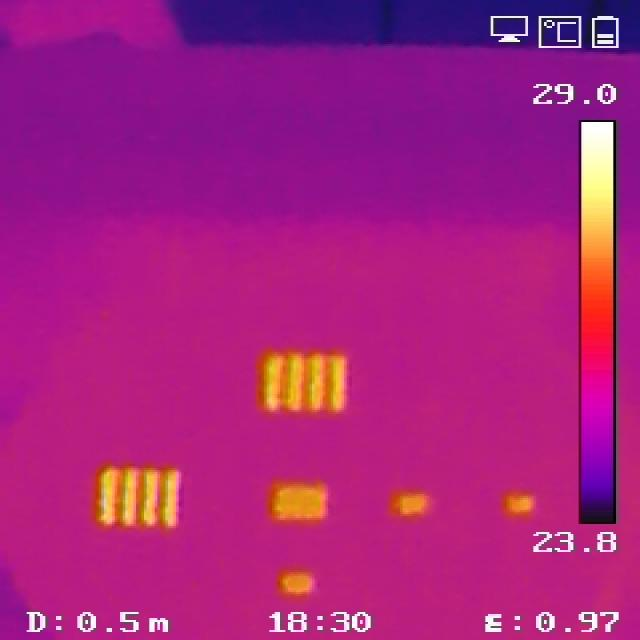Distinguishable 4-bar target: (85, 461, 192, 530), (257, 350, 352, 414)
Indistinguishable 4-bar target: (278, 482, 334, 520), (504, 489, 533, 520), (396, 490, 428, 516), (287, 574, 317, 595)
